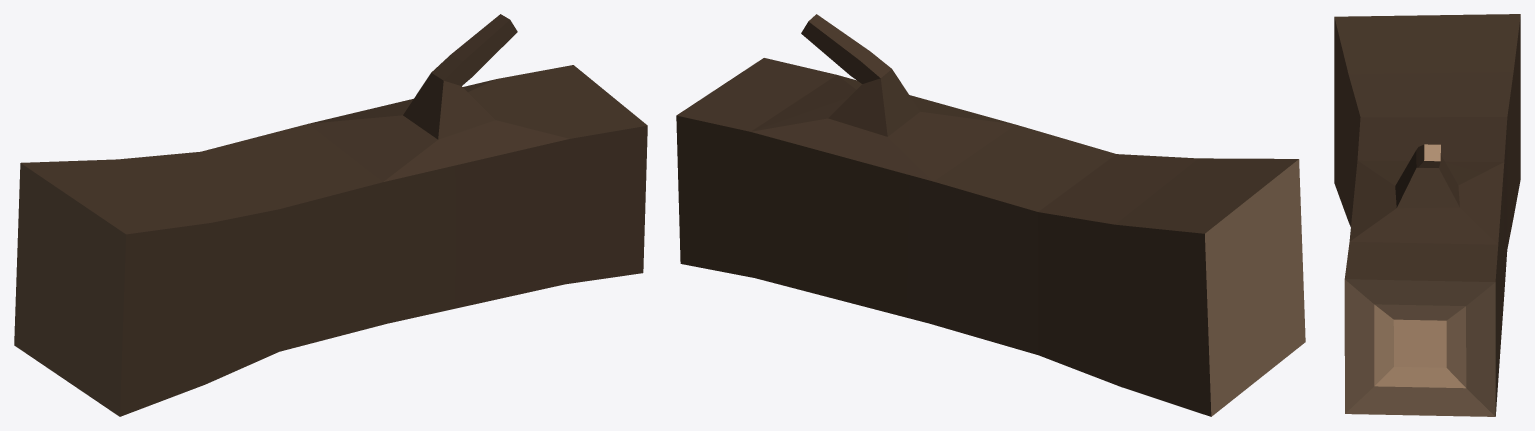
File: FallenTree.fbx
3 views of the same model, side by side, from view 1: azimuth 30°, elevation 25°; view 2: azimuth 150°, elevation 25°; view 3: azimuth 270°, elevation 25° (orthographic). The views are drawn at different scales.
Parts seen in each view (by area): view 1: FallenTree; view 2: FallenTree; view 3: FallenTree.
Boxes of the visible parts, box(x1,y1,x2,y2) form: FallenTree: box(14, 14, 647, 416); FallenTree: box(676, 14, 1305, 416); FallenTree: box(1334, 14, 1520, 416).
Size of the model in its own units: 2.22 by 0.989 by 0.7025.
